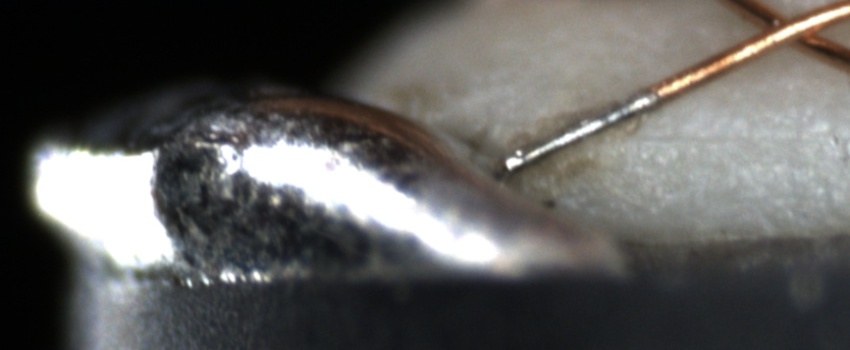CL: (737, 1, 839, 59)
DL: (618, 107, 850, 171)
TS: (503, 86, 660, 171)
